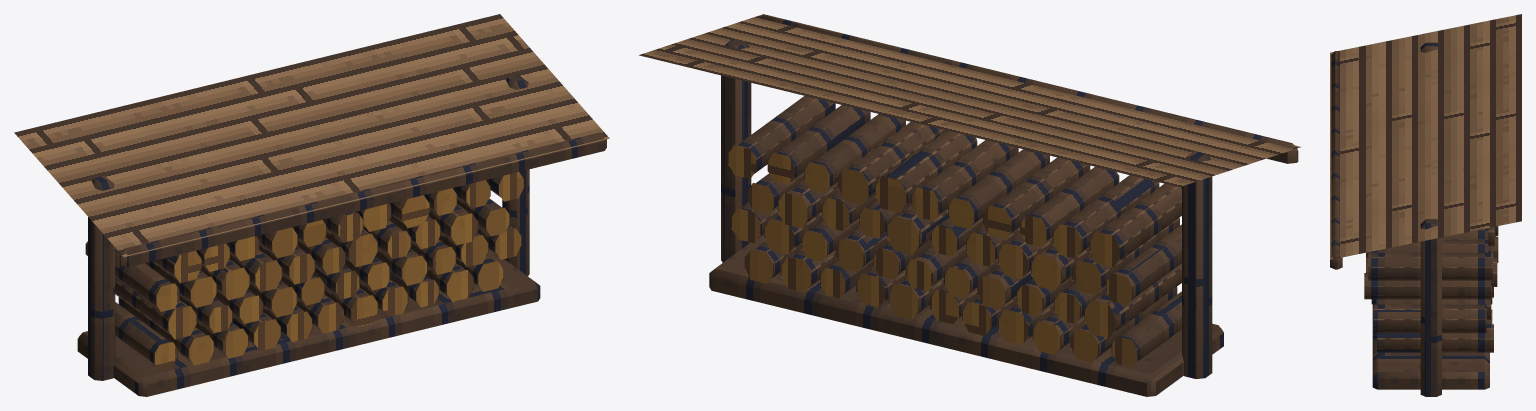
Rendered from firewood_pile_0.glb.
3 views of the same model, side by side, from view 1: azimuth 30°, elevation 25°; view 2: azimuth 150°, elevation 25°; view 3: azimuth 270°, elevation 25° (orthographic). The views are drawn at different scales.
Parts seen in each view (by area): view 1: firewood_pile_1; view 2: firewood_pile_1; view 3: firewood_pile_1.
Boxes of the visible parts, x1,y1,x2,y2 form: firewood_pile_1: [14, 14, 609, 396]; firewood_pile_1: [639, 14, 1300, 396]; firewood_pile_1: [1330, 14, 1521, 396].
Bounding box in the file's own units: 2.3 × 0.965 × 0.9.
Materials: 4 (4 with a texture image).
